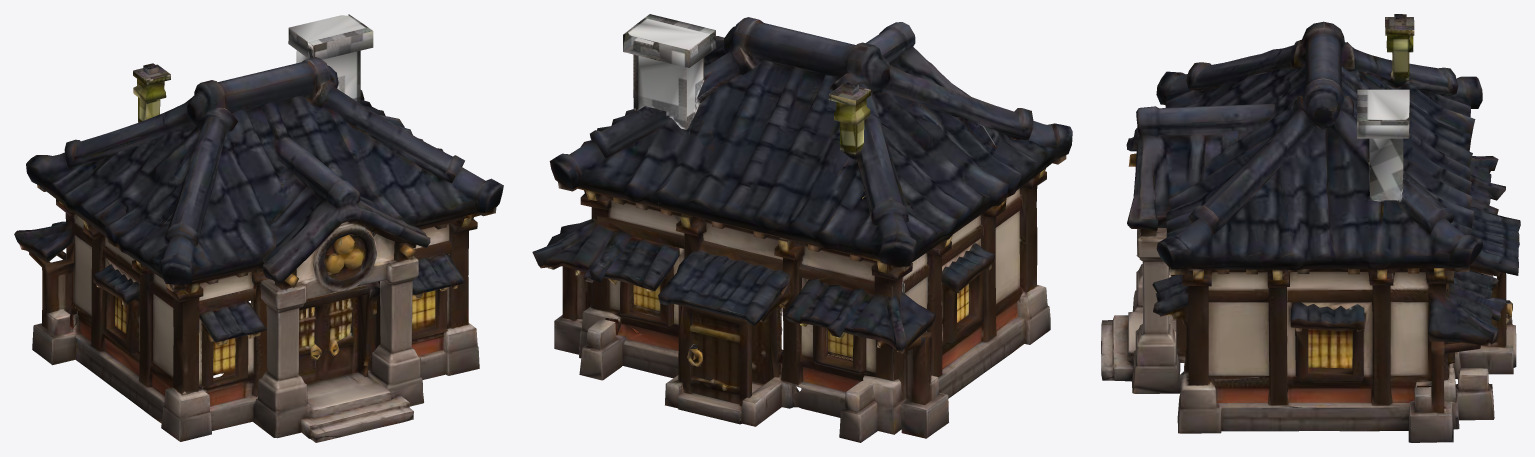
3 views of the same model, side by side, from view 1: azimuth 30°, elevation 25°; view 2: azimuth 150°, elevation 25°; view 3: azimuth 270°, elevation 25° (orthographic). The views are drawn at different scales.
Parts seen in each view (by area): view 1: compact__vault_bank__native_mobile; view 2: compact__vault_bank__native_mobile; view 3: compact__vault_bank__native_mobile.
Part boxes in pixels (left/top/right/bottom): compact__vault_bank__native_mobile: left=14, top=14, right=503, bottom=442; compact__vault_bank__native_mobile: left=532, top=14, right=1072, bottom=442; compact__vault_bank__native_mobile: left=1101, top=14, right=1520, bottom=442.
Bounding box in the file's own units: 0.9971 × 0.8003 × 1.
1 material, 1 textured.
